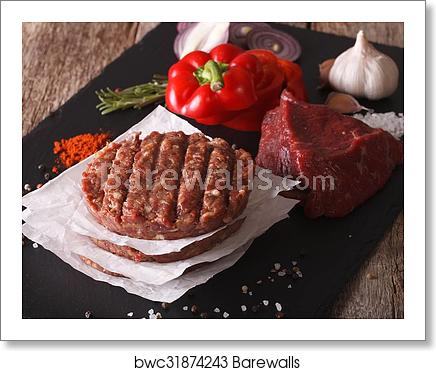ground_beef: (88, 129, 256, 243), (256, 108, 378, 217), (94, 239, 131, 254)
